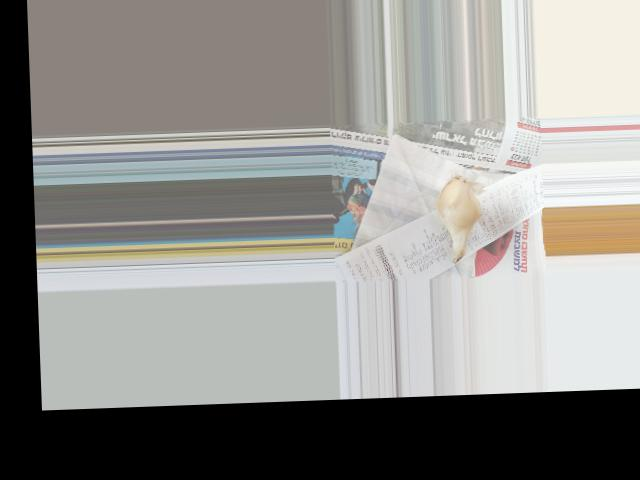onion: (433, 178, 479, 240)
